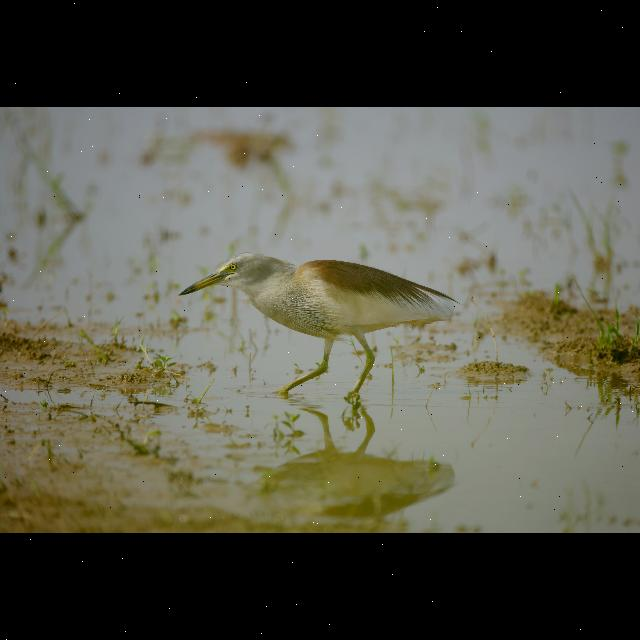heron: (174, 242, 462, 420)
